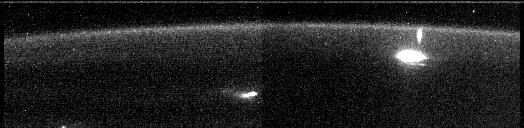positive: (414, 25, 425, 46)
